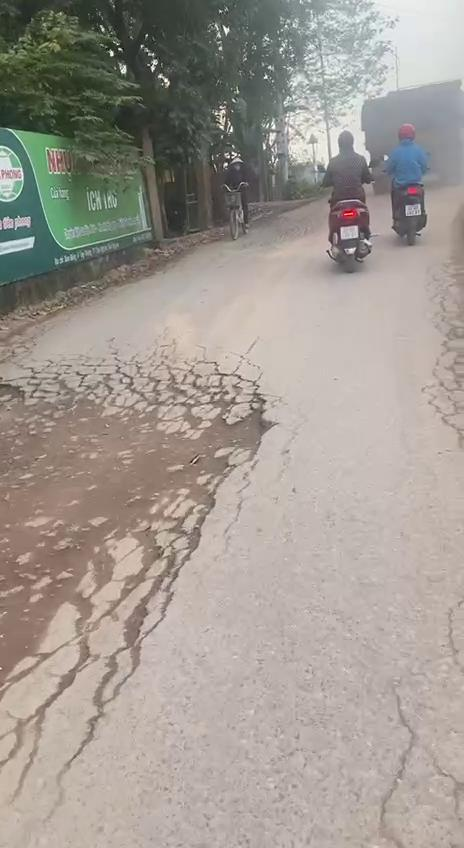pothole: (0, 353, 274, 744)
